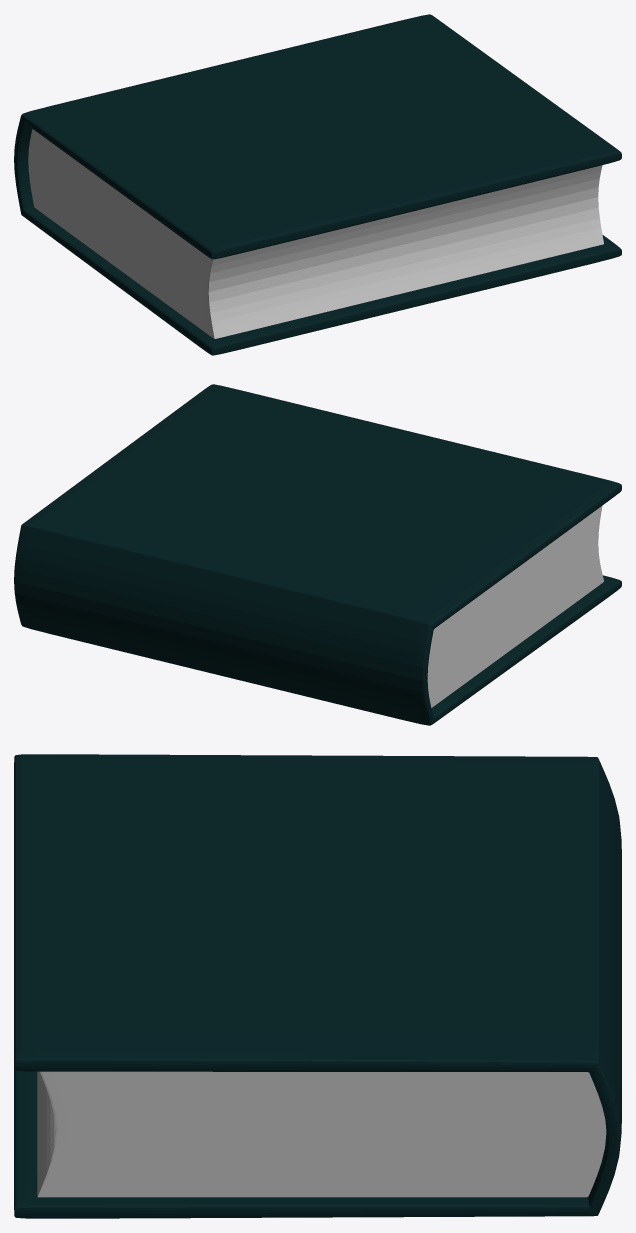
Rendered from Bookteal.obj.
The picture shows the model from 3 angles, top to bottom: view 1: azimuth 30°, elevation 25°; view 2: azimuth 150°, elevation 25°; view 3: azimuth 270°, elevation 25°; orthographic projection. The views are drawn at different scales.
Parts seen in each view (by area): view 1: Cube, Cube.001; view 2: Cube, Cube.001; view 3: Cube, Cube.001.
Part boxes in pixels (x1=…): Cube: x1=14, y1=14, x2=621, y2=355; Cube.001: x1=28, y1=129, x2=603, y2=338; Cube: x1=14, y1=384, x2=621, y2=725; Cube.001: x1=427, y1=506, x2=603, y2=707; Cube: x1=14, y1=754, x2=621, y2=1218; Cube.001: x1=37, y1=1071, x2=606, y2=1197.
Bounding box in the file's own units: 2 × 0.4962 × 1.67.
